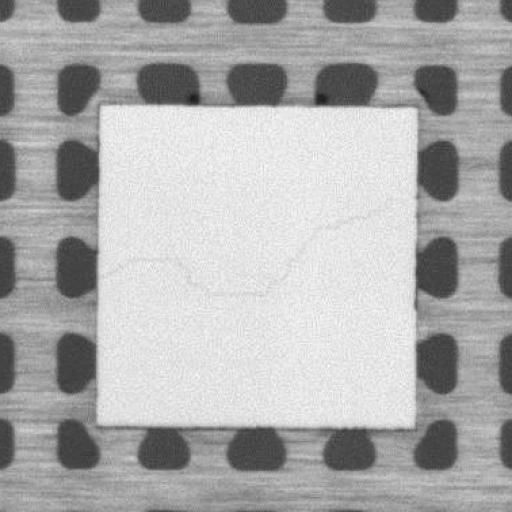DIE_CRACK: (108, 195, 414, 295)
